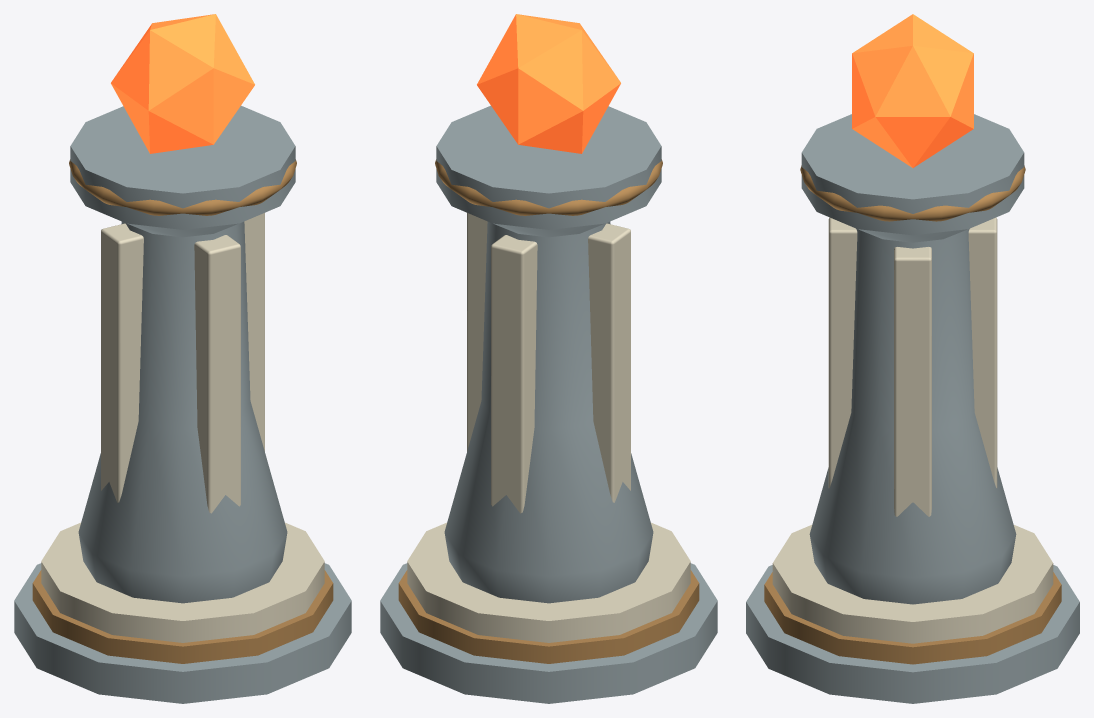
File: tower-ember.glb
3 views of the same model, side by side, from view 1: azimuth 30°, elevation 25°; view 2: azimuth 150°, elevation 25°; view 3: azimuth 270°, elevation 25° (orthographic).
Parts seen in each view (by area): view 1: ember-tower; view 2: ember-tower; view 3: ember-tower.
Part boxes in pixels (x1,y1,x2,y2): ember-tower: (14, 14, 351, 703); ember-tower: (380, 14, 717, 703); ember-tower: (746, 14, 1079, 703).
Size of the model in its own units: 2.1 by 4.19 by 2.1.
